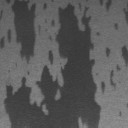red iron: (3, 2, 128, 128), (0, 0, 55, 64), (99, 0, 112, 10), (123, 8, 128, 24), (106, 46, 110, 56), (114, 22, 118, 30), (0, 10, 3, 19), (119, 110, 122, 117)
